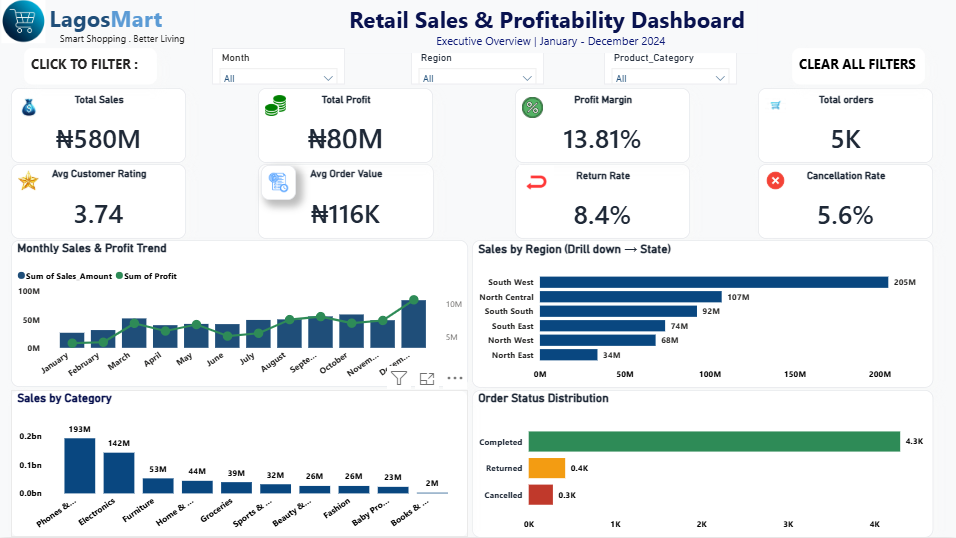

Layout of this report page (visuals, bound fields, positions):
{"tool":"powerbi","page":{"name":"Executive Overview","canvas":[1366,768],"ordinal":0},"visuals":[{"type":"cardVisual","title":"Total Sales","fields":{"Data":["Cleaned_LagosMart_Data.Total Sales"]},"box":[16.2,127,250,107],"z":0},{"type":"cardVisual","title":"Avg Customer Rating","fields":{"Data":["Cleaned_LagosMart_Data.Average Customer Rating"]},"box":[16.2,235,250,107],"z":1000},{"type":"cardVisual","title":"Avg Order Value","fields":{"Data":["Cleaned_LagosMart_Data.Avgerage Order Value"]},"box":[368.4,235,250.5,107],"z":2000},{"type":"cardVisual","title":"Return Rate","fields":{"Data":["Cleaned_LagosMart_Data.Return Rate"]},"box":[735.3,235,250,107],"z":3000},{"type":"cardVisual","title":"Total Profit","fields":{"Data":["Cleaned_LagosMart_Data.Total Profit"]},"box":[368.4,127,250,107],"z":4000},{"type":"cardVisual","title":"Profit Margin","fields":{"Data":["Cleaned_LagosMart_Data.Profit Margin"]},"box":[735.3,127,250,107],"z":5000},{"type":"cardVisual","title":"Total orders","fields":{"Data":["Cleaned_LagosMart_Data.Total Orders"]},"box":[1083,127,250,107],"z":6000},{"type":"cardVisual","title":"Cancellation Rate","fields":{"Data":["Cleaned_LagosMart_Data.Cancellation Rate"]},"box":[1083.1,235,250,107],"z":7000},{"type":"lineStackedColumnComboChart","title":"Monthly Sales & Profit Trend","fields":{"Category":["Cleaned_LagosMart_Data.Date.Variation.Date Hierarchy.Month"],"Y":["Sum(Cleaned_LagosMart_Data.Sales_Amount)"],"Y2":["Sum(Cleaned_LagosMart_Data.Profit)"]},"box":[16.2,345,653,210],"z":8000},{"type":"clusteredBarChart","title":"Sales by Region (Drill down → State)","fields":{"Y":["Sum(Cleaned_LagosMart_Data.Sales_Amount)"],"Category":["Cleaned_LagosMart_Data.Region","Cleaned_LagosMart_Data.State"]},"box":[674.9,344.8,658.7,210.7],"z":9000},{"type":"slicer","fields":{"Values":["Cleaned_LagosMart_Data.Date.Variation.Date Hierarchy.Month"]},"box":[303.6,70,190,52],"z":10000},{"type":"slicer","fields":{"Values":["Cleaned_LagosMart_Data.Region"]},"box":[586.5,70,190,52],"z":11000},{"type":"slicer","fields":{"Values":["Cleaned_LagosMart_Data.Product_Category"]},"box":[863.5,70,190,52],"z":12000},{"type":"clusteredBarChart","title":"Order Status Distribution","fields":{"Category":["Cleaned_LagosMart_Data.Order_Status"],"Y":["CountNonNull(Cleaned_LagosMart_Data.Transaction_ID)"]},"box":[674.9,558.5,658.7,210.7],"z":13000},{"type":"image","box":[741.2,237.2,50,50],"z":14000},{"type":"image","box":[735.3,129.7,50,50],"z":15000},{"type":"image","box":[368.4,126.7,50,50],"z":16000},{"type":"image","box":[1083.1,234.3,50,50],"z":17000},{"type":"image","box":[372.8,237.2,50,50.1],"z":18000},{"type":"image","box":[16.2,129.7,50,50],"z":19000},{"type":"image","box":[16.2,234.3,50,50],"z":20000},{"type":"image","box":[1083.1,126.7,50,50],"z":21000},{"type":"textbox","box":[66.3,0,212,80],"z":22000},{"type":"image","box":[0,0,67,63],"z":23000},{"type":"textbox","box":[492.9,0,588.6,77.1],"z":24000},{"type":"textbox","box":[1131.7,70,190,52],"z":25000},{"type":"textbox","box":[33.9,70,190,52],"z":26000},{"type":"clusteredColumnChart","title":"Sales by Category","fields":{"Category":["Cleaned_LagosMart_Data.Product_Category"],"Y":["Sum(Cleaned_LagosMart_Data.Sales_Amount)"]},"box":[16.2,558.5,653,210.7],"z":27000}]}

Visuals, with their boxes in screenshot pixels (x1, y1, x2, y2), scaled from the page's 1366x768 canvas onto the 956x538 screenshot:
"Total Sales" cardVisual: box=[11, 89, 186, 164]
"Avg Customer Rating" cardVisual: box=[11, 165, 186, 240]
"Avg Order Value" cardVisual: box=[258, 165, 433, 240]
"Return Rate" cardVisual: box=[515, 165, 690, 240]
"Total Profit" cardVisual: box=[258, 89, 433, 164]
"Profit Margin" cardVisual: box=[515, 89, 690, 164]
"Total orders" cardVisual: box=[758, 89, 933, 164]
"Cancellation Rate" cardVisual: box=[758, 165, 933, 240]
"Monthly Sales & Profit Trend" lineStackedColumnComboChart: box=[11, 242, 468, 389]
"Sales by Region (Drill down → State)" clusteredBarChart: box=[472, 242, 933, 389]
slicer - Cleaned_LagosMart_Data.Date.Variation.Date Hierarchy.Month: box=[212, 49, 345, 85]
slicer - Cleaned_LagosMart_Data.Region: box=[410, 49, 543, 85]
slicer - Cleaned_LagosMart_Data.Product_Category: box=[604, 49, 737, 85]
"Order Status Distribution" clusteredBarChart: box=[472, 391, 933, 537]
image: box=[519, 166, 554, 201]
image: box=[515, 91, 550, 126]
image: box=[258, 89, 293, 124]
image: box=[758, 164, 793, 199]
image: box=[261, 166, 296, 201]
image: box=[11, 91, 46, 126]
image: box=[11, 164, 46, 199]
image: box=[758, 89, 793, 124]
textbox: box=[46, 0, 195, 56]
image: box=[0, 0, 47, 44]
textbox: box=[345, 0, 757, 54]
textbox: box=[792, 49, 925, 85]
textbox: box=[24, 49, 157, 85]
"Sales by Category" clusteredColumnChart: box=[11, 391, 468, 537]
